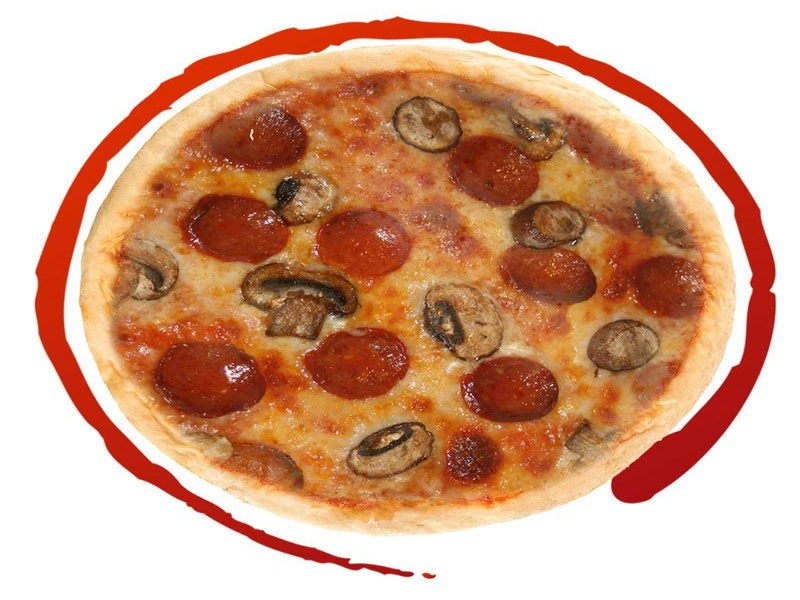champignon: (237, 260, 366, 342), (416, 279, 512, 365), (345, 418, 437, 483), (109, 233, 187, 308), (273, 168, 345, 232)
